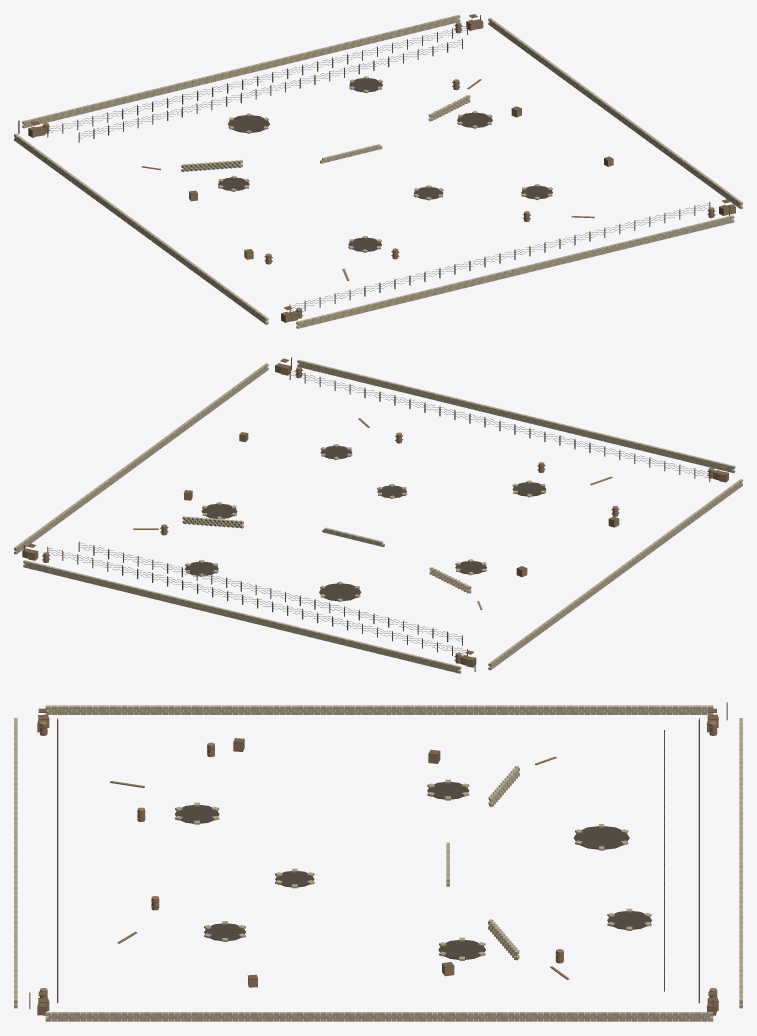
File: trench_dressing.glb
3 views of the same model, one above another, from view 1: azimuth 30°, elevation 25°; view 2: azimuth 150°, elevation 25°; view 3: azimuth 270°, elevation 25° (orthographic). The views are drawn at different scales.
Visible parts, largest first — view 1: TrenchDressing; view 2: TrenchDressing; view 3: TrenchDressing.
Boxes of the visible parts, x1,y1,x2,y2 form: TrenchDressing: (14,14,742,328); TrenchDressing: (14,357,742,673); TrenchDressing: (14,702,742,1021).
Bounding box in the file's own units: 52.26 × 1.4 × 52.26.
